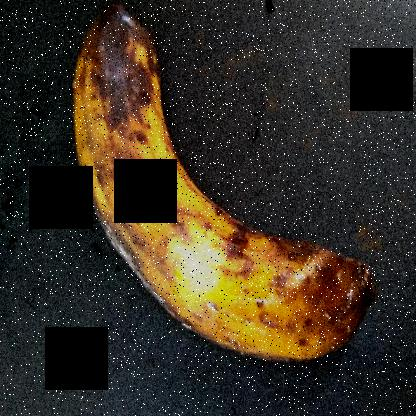rotten: (60, 1, 383, 381)
